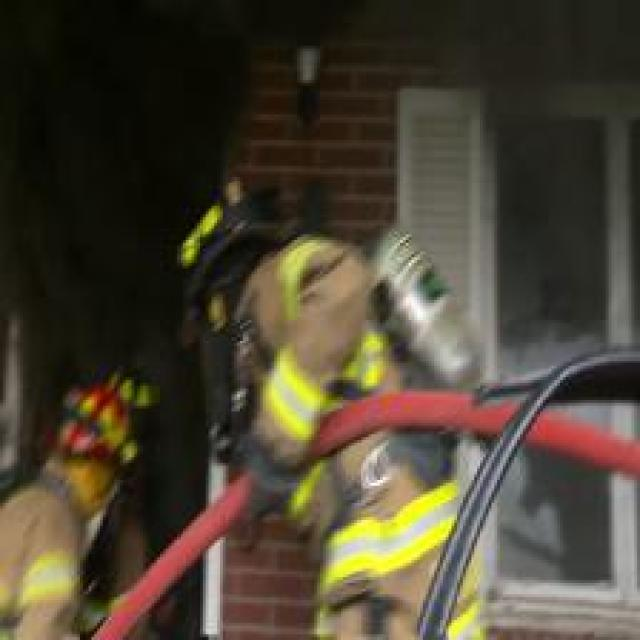other: (65, 357, 130, 509), (125, 532, 178, 600)
